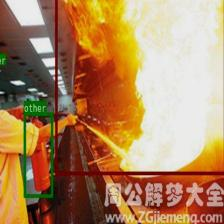fire: (54, 0, 224, 174)
